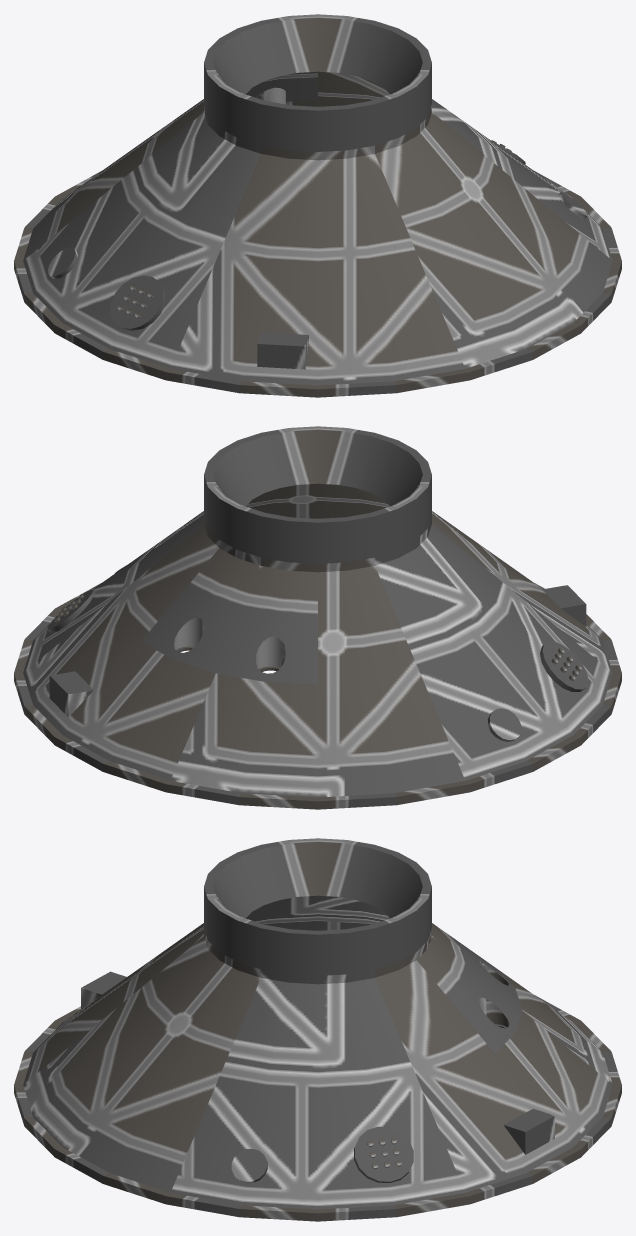
Rendered from big crew narrow adapter naked snoot.obj.
The picture shows the model from 3 angles, top to bottom: view 1: azimuth 30°, elevation 25°; view 2: azimuth 150°, elevation 25°; view 3: azimuth 270°, elevation 25°; orthographic projection.
Visible parts, largest first — view 1: 1.010; view 2: 1.010; view 3: 1.010.
Boxes of the visible parts, x1=… form: 1.010: x1=14, y1=14, x2=621, y2=397; 1.010: x1=14, y1=426, x2=621, y2=809; 1.010: x1=14, y1=838, x2=621, y2=1221.
Bounding box in the file's own units: 2.5 × 0.9375 × 2.5.
